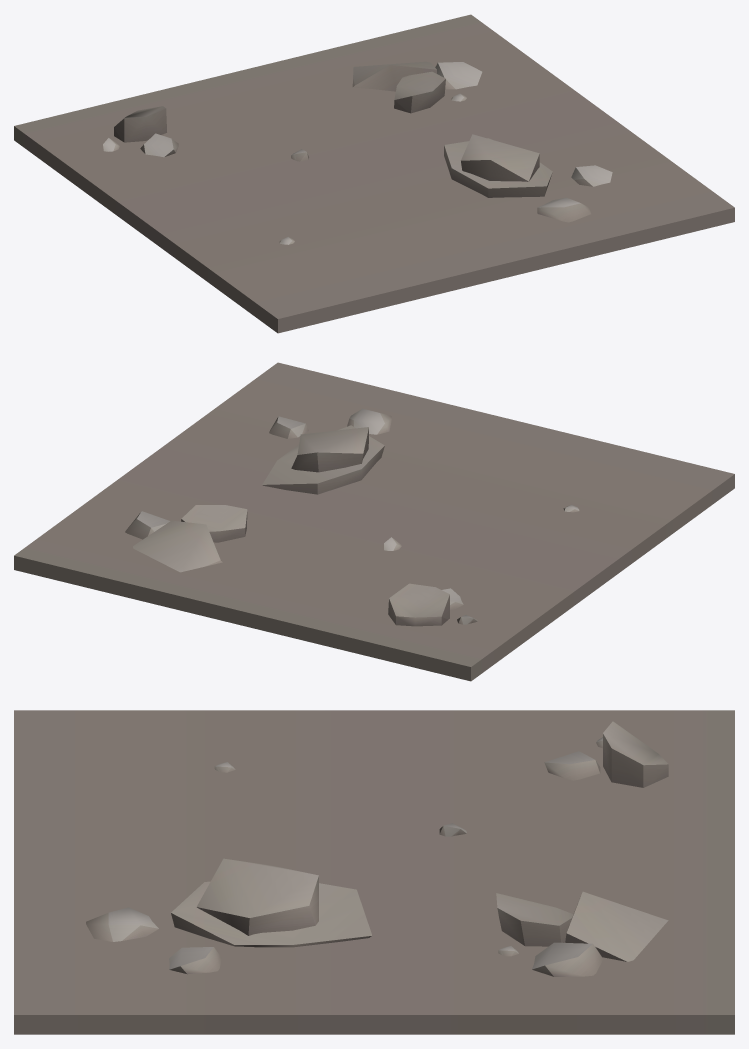
Rendered from kaykit-dungeon-remastered-floor-dirt-large-rocky-gltf.glb.
The picture shows the model from 3 angles, top to bottom: view 1: azimuth 30°, elevation 25°; view 2: azimuth 150°, elevation 25°; view 3: azimuth 270°, elevation 25°; orthographic projection. The views are drawn at different scales.
Visible parts, largest first — view 1: floor_dirt_large_rocky; view 2: floor_dirt_large_rocky; view 3: floor_dirt_large_rocky.
Part boxes in pixels (x1,y1,x2,y2): floor_dirt_large_rocky: (14, 14, 734, 333); floor_dirt_large_rocky: (14, 362, 734, 681); floor_dirt_large_rocky: (14, 710, 734, 1034).
Bounding box in the file's own units: 4 × 0.3926 × 4.
1 material, 1 textured.
